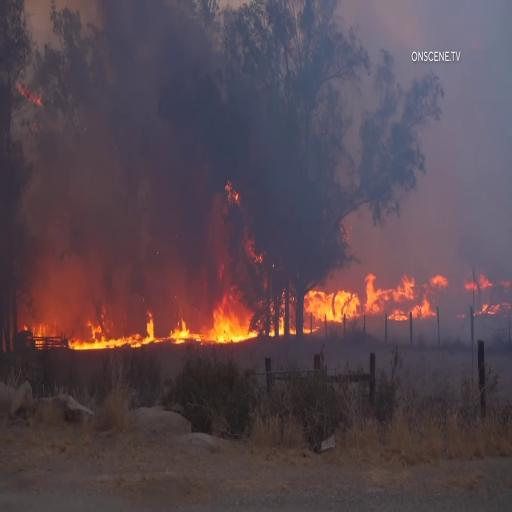fire: (68, 314, 160, 351), (195, 300, 255, 348), (359, 272, 420, 314), (304, 287, 365, 323)
smoke: (42, 216, 186, 302), (447, 82, 512, 264)
